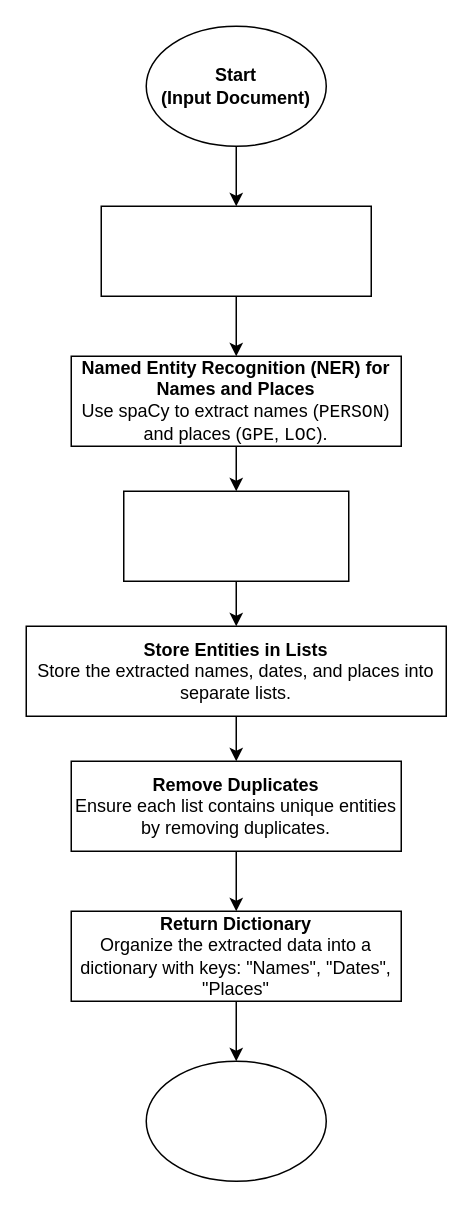
The diagram is 473 pixels wide and 1208 high, and some of its shapes have lost their labels. Each missing label, with the centre of its shape:
"Date extraction using Regex" belongs at point 235,535.
"End" belongs at point 235,1120.
"Tokenization (Split the document into sentences and words)" belongs at point 235,250.
